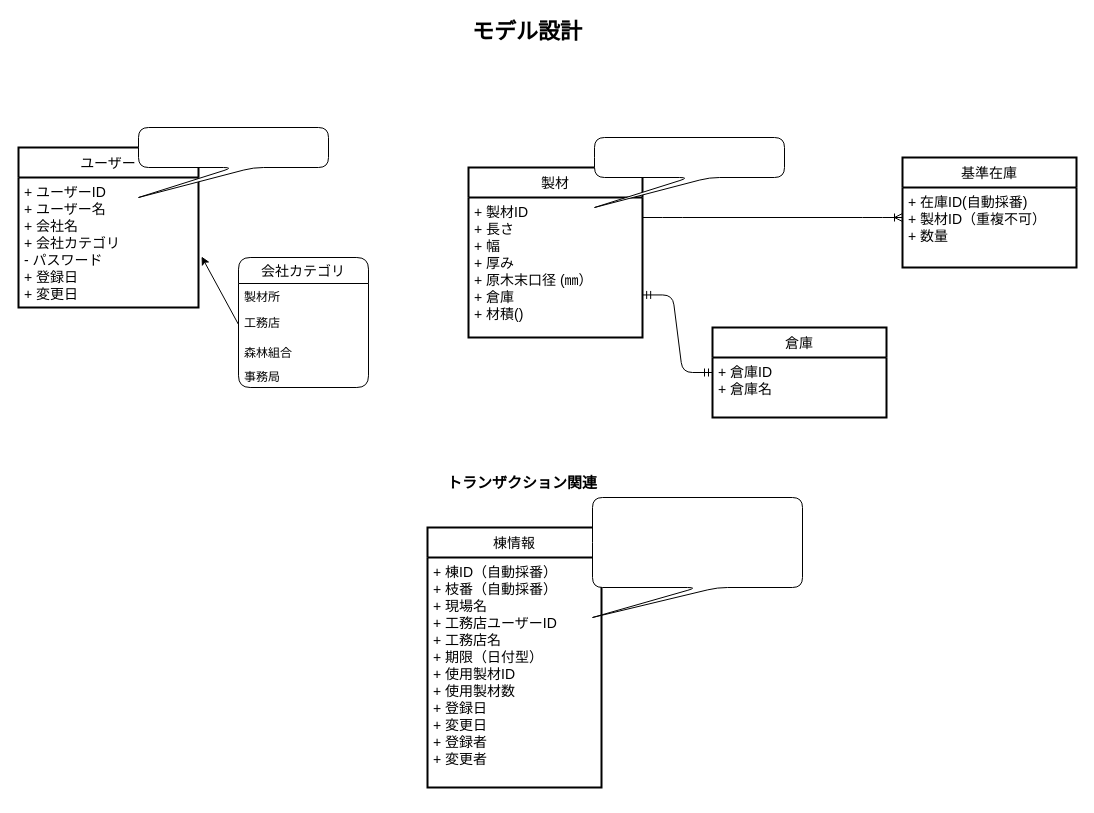
Some shapes in this 1094 by 813 pixel diagram are drawn without their labels. Here are the shapes that lost their labels. From the top down, the centre of each, then its label:
At point 233,162: "ユーザー名ではなく会社メインの方がいいか。".
At point 689,172: "IDに意味がある方がいいか".
At point 697,557: "ユーザーの工務店カテゴリから選択。工務店がログインしている場合、ログインユーザーが第一選択".
